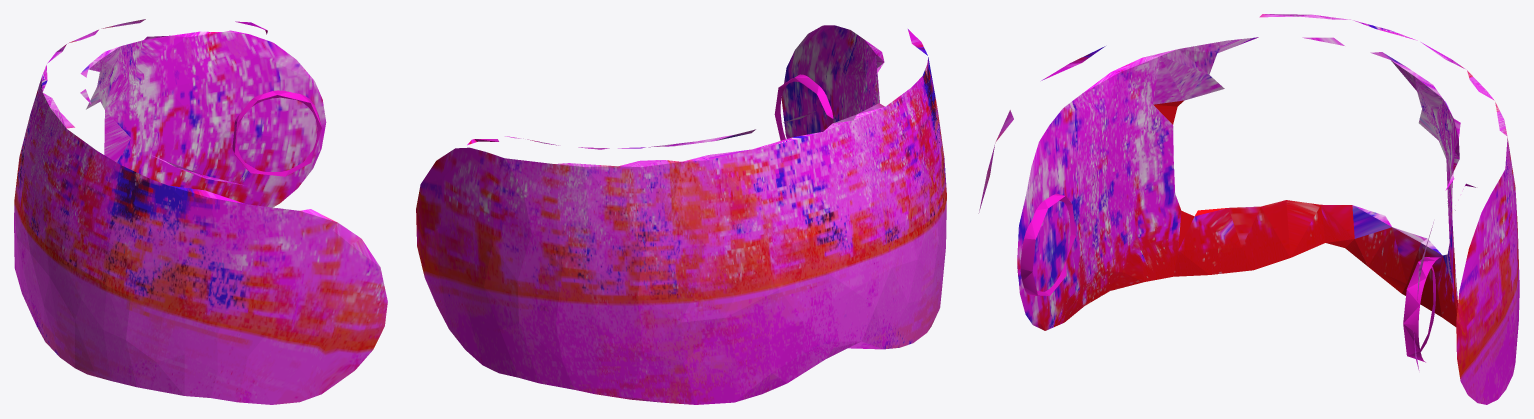
File: visor1.glb
The picture shows the model from 3 angles, left to right: view 1: azimuth 30°, elevation 25°; view 2: azimuth 150°, elevation 25°; view 3: azimuth 270°, elevation 25°; orthographic projection. The views are drawn at different scales.
Visible parts, largest first — view 1: visor_pantalla:Mesh; view 2: visor_pantalla:Mesh; view 3: visor_pantalla:Mesh.
Boxes of the visible parts, x1,y1,x2,y2 form: visor_pantalla:Mesh: (14,19,387,404); visor_pantalla:Mesh: (416,25,946,404); visor_pantalla:Mesh: (978,14,1519,404).
Bounding box in the file's own units: 0.0944 × 0.0563 × 0.1107.
Materials: 1 (1 with a texture image).
